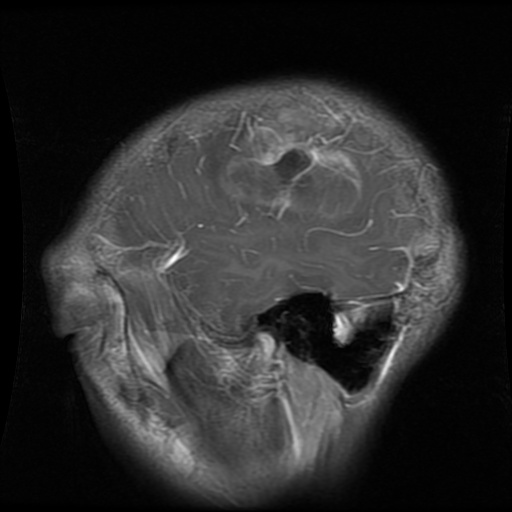glioma: (219, 106, 366, 217)
